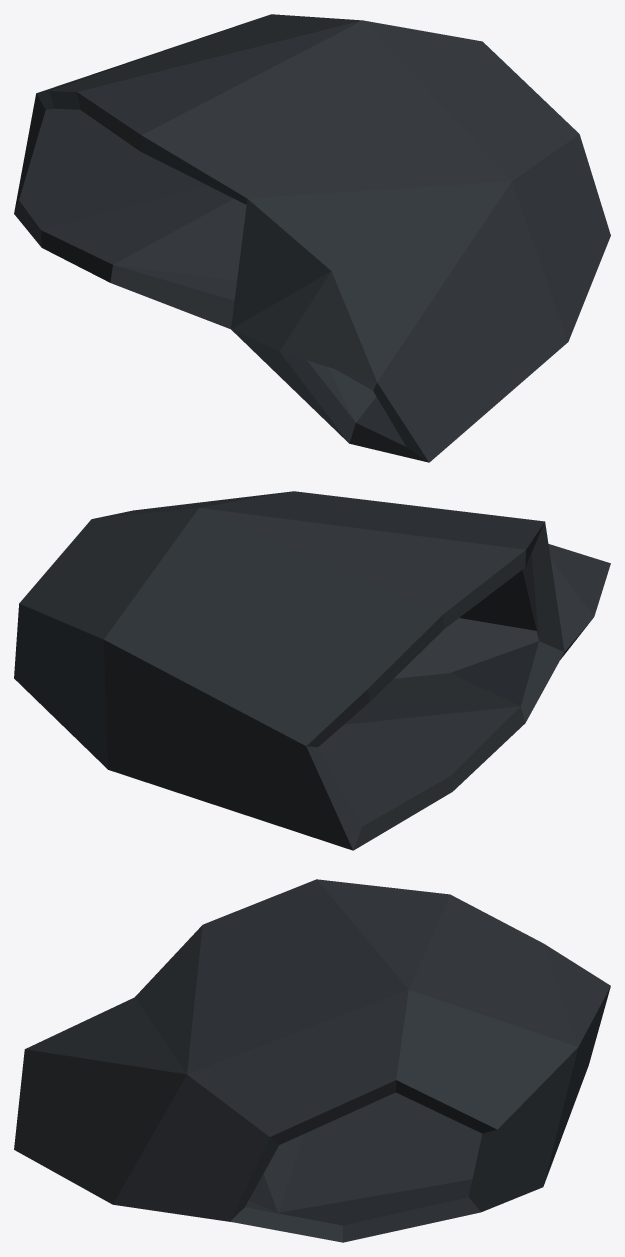
File: Chr_HandRight_Female_07_Drop.fbx
3 renders of one model, top to bottom at view 1: azimuth 30°, elevation 25°; view 2: azimuth 150°, elevation 25°; view 3: azimuth 270°, elevation 25°, orthographic. The views are drawn at different scales.
Parts seen in each view (by area): view 1: Chr_HandRight_Female_07_Static; view 2: Chr_HandRight_Female_07_Static; view 3: Chr_HandRight_Female_07_Static.
Boxes of the visible parts, bbox=[...] form: Chr_HandRight_Female_07_Static: bbox=[14, 14, 610, 462]; Chr_HandRight_Female_07_Static: bbox=[14, 491, 610, 850]; Chr_HandRight_Female_07_Static: bbox=[14, 879, 610, 1242].
Bounding box in the file's own units: 11.79 × 7.05 × 15.24.
